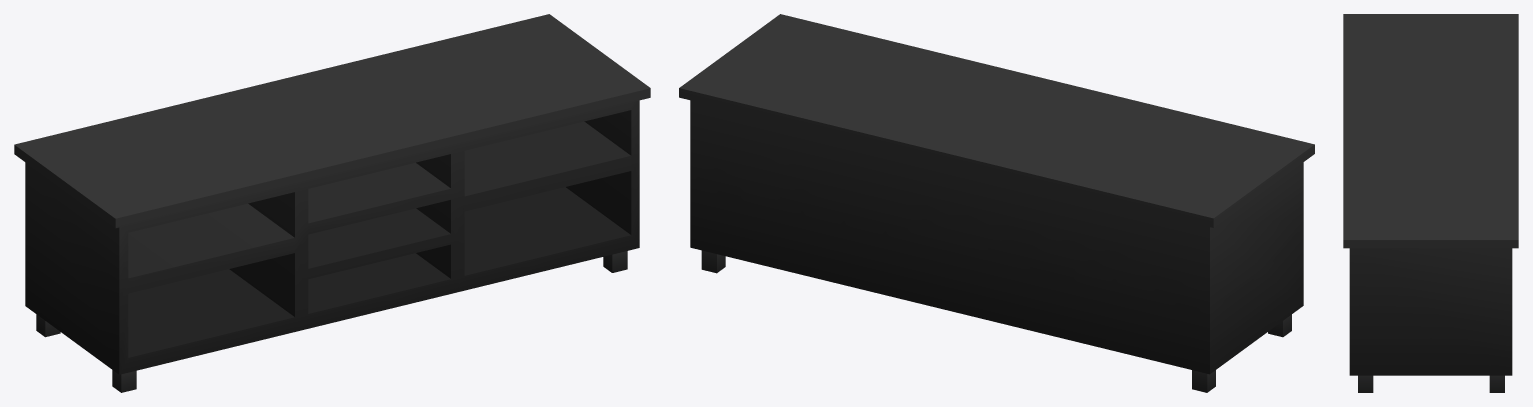
Rendered from SideboardCabinet_B_Open_Black.fbx.
The picture shows the model from 3 angles, left to right: view 1: azimuth 30°, elevation 25°; view 2: azimuth 150°, elevation 25°; view 3: azimuth 270°, elevation 25°; orthographic projection. The views are drawn at different scales.
Parts seen in each view (by area): view 1: SideboardCabinet_B_Open_Black; view 2: SideboardCabinet_B_Open_Black; view 3: SideboardCabinet_B_Open_Black.
Boxes of the visible parts, box(x1,y1,x2,y2) form: SideboardCabinet_B_Open_Black: box(14, 14, 650, 392); SideboardCabinet_B_Open_Black: box(679, 14, 1314, 392); SideboardCabinet_B_Open_Black: box(1343, 14, 1518, 392).
Size of the model in its own units: 244 by 80.14 by 80.
